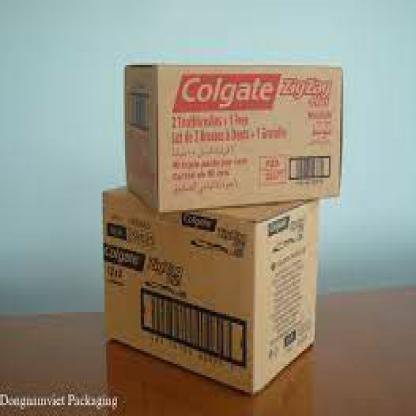box: (96, 184, 326, 399), (119, 50, 353, 215)
